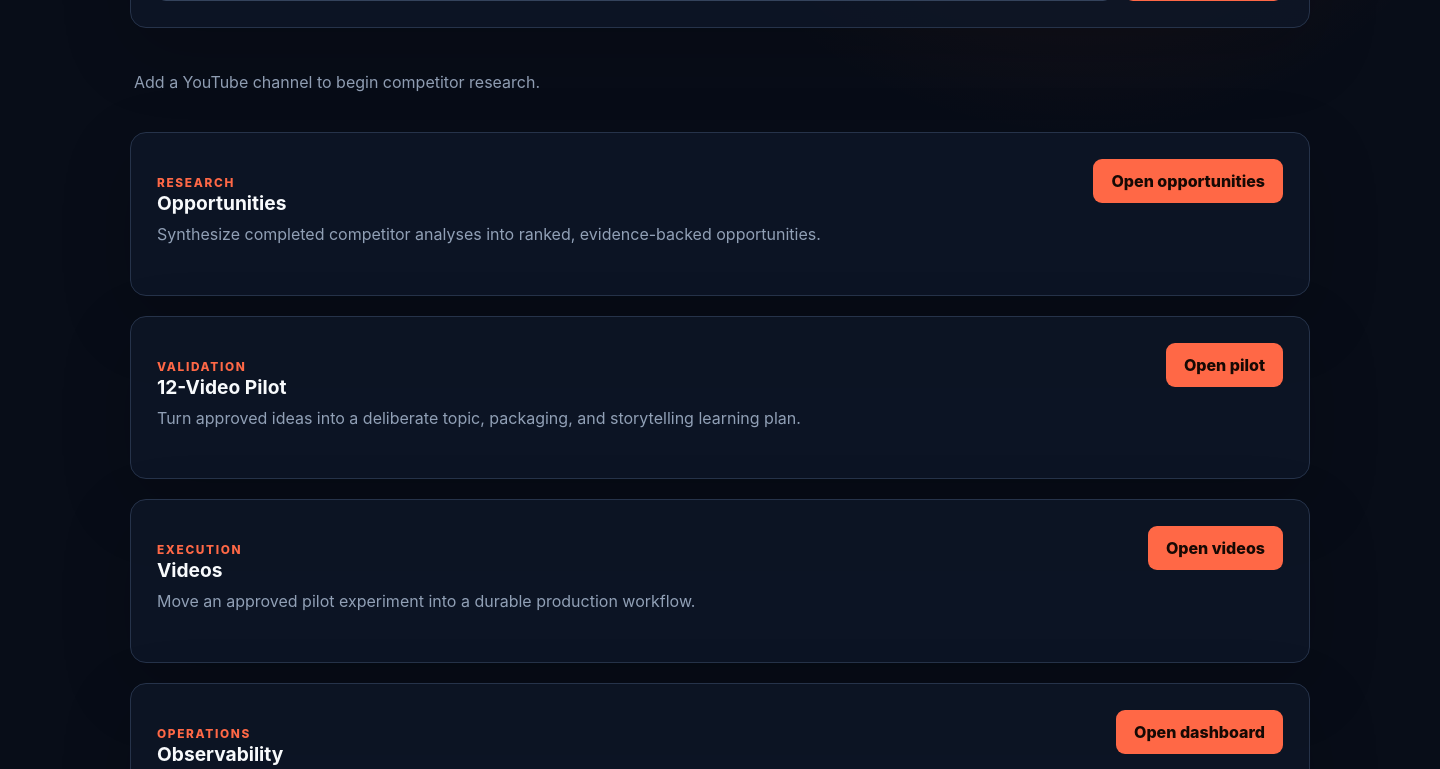
Test: shows the pilot insufficient-ideas state without queuing generation
The width and height of the screenshot is (1440, 769).
(page scrolled)
Expected: the text "Add a YouTube channel to begin competitor research." is shown, [134,72,540,92]
Click the button "Open pilot" at [1224, 365], box [1166,343,1283,387]
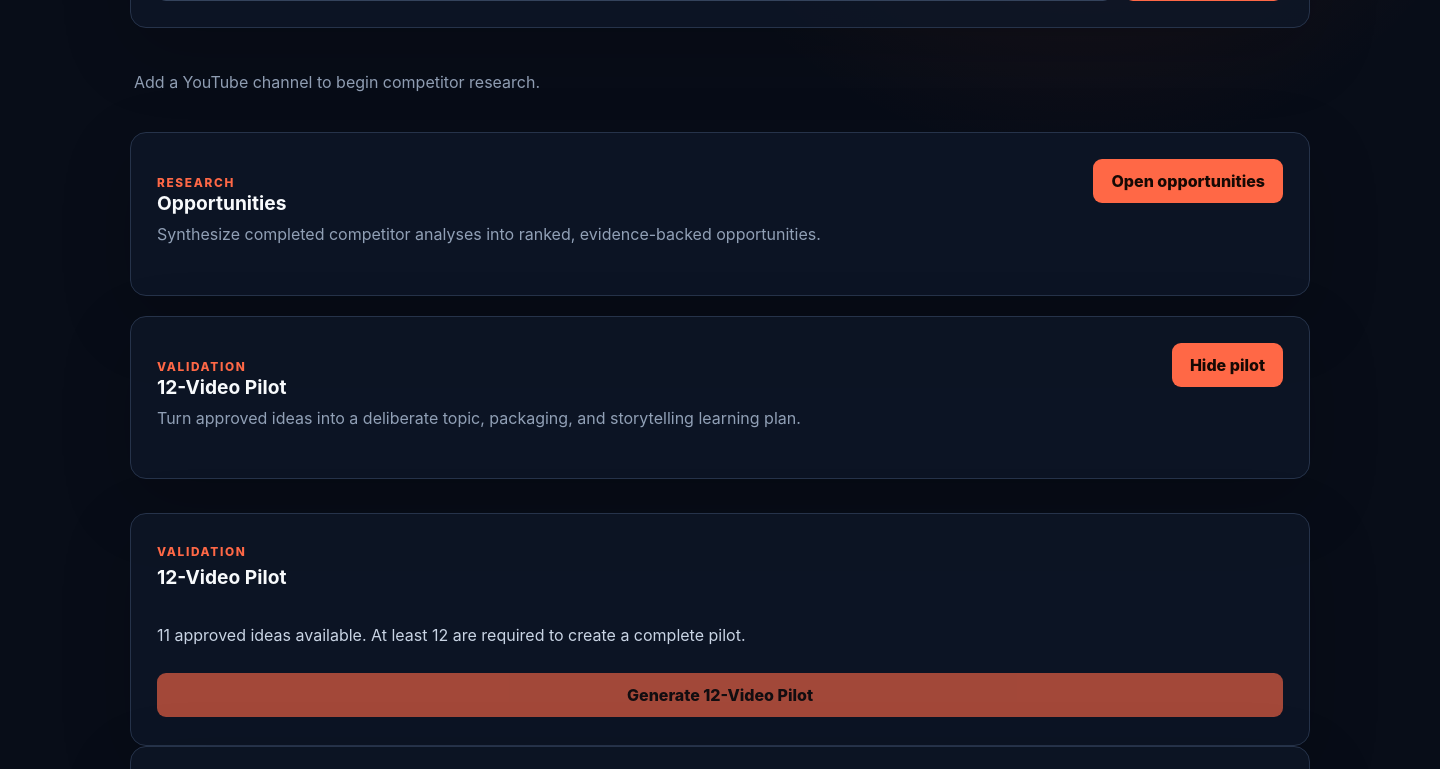
Result: the text "11 approved ideas available. At least 12 are required to create a complete pilot." is shown at [157,625,746,645]
Result: the button "Generate 12-Video Pilot" is disabled at [157,673,1283,717]
